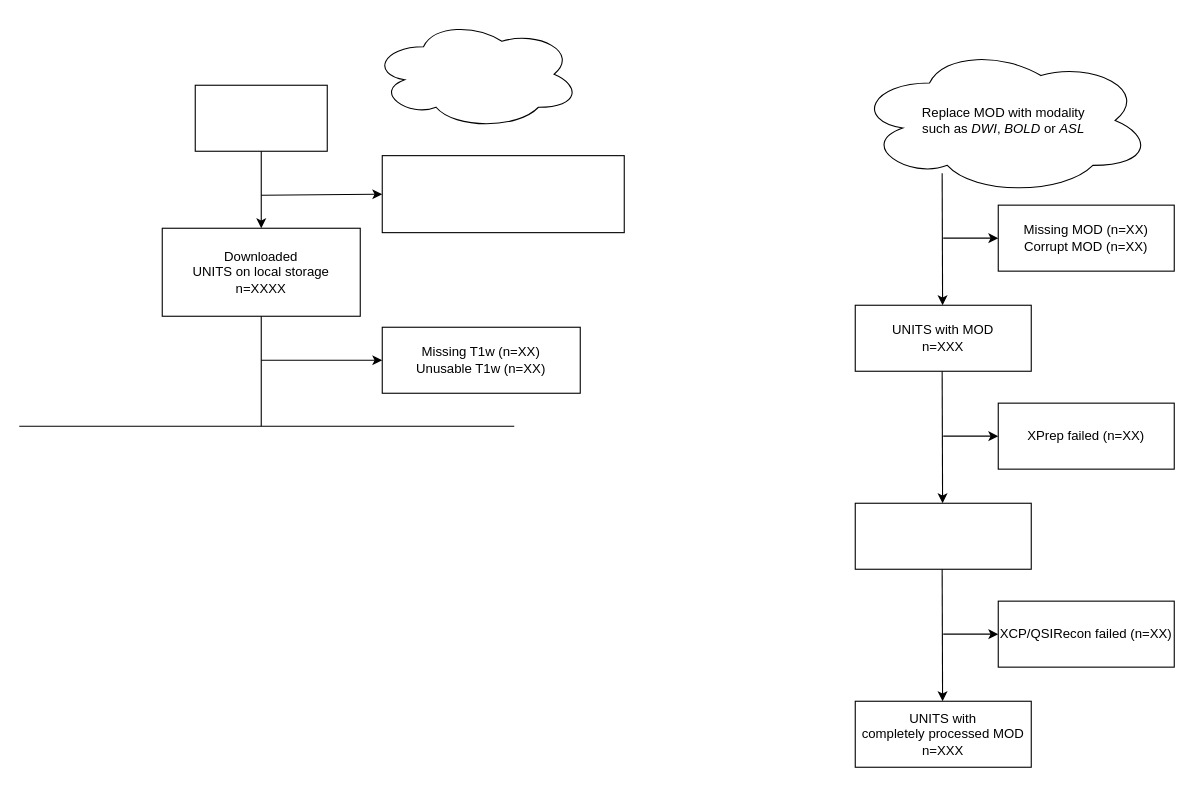
Image size: 1194x787. Some labels were removed from this diagram. The shapes that lost their labels are listed below. From the top down, each one's centre as x and y in pixels, then its label:
At (475,73): "UNITS is either subjects , sessions or scans".
At (260,117): "Data Source claims available UNITS: n=XXXX".
At (502,194): "Unavailable UNITS (n=XX) Corrupted data UNITS (n=XX)".
At (942,535): "UNITS with preprocessed MOD n=XXX".
